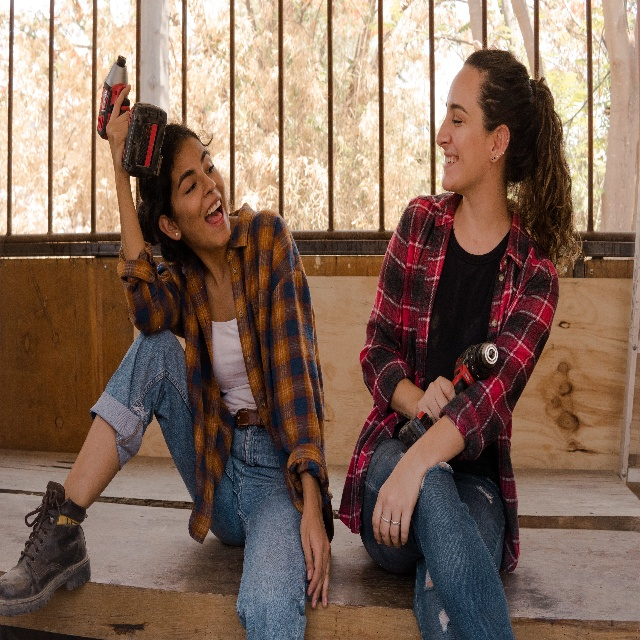Sin_guantes: (372, 456, 421, 552), (300, 501, 332, 611), (106, 83, 134, 179), (413, 374, 458, 425)
